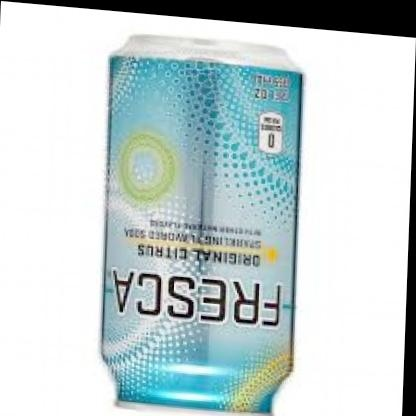trash: (102, 35, 301, 412)
